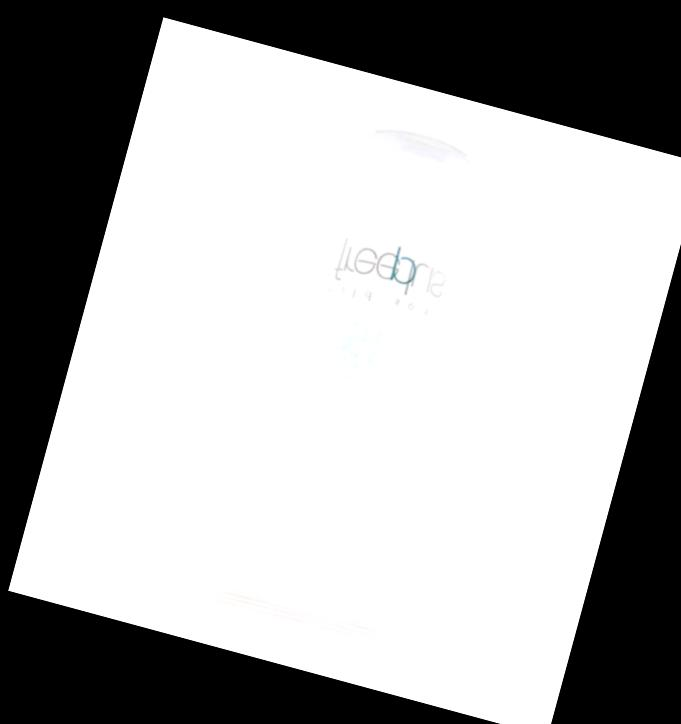cosmetic: (198, 109, 535, 662)
